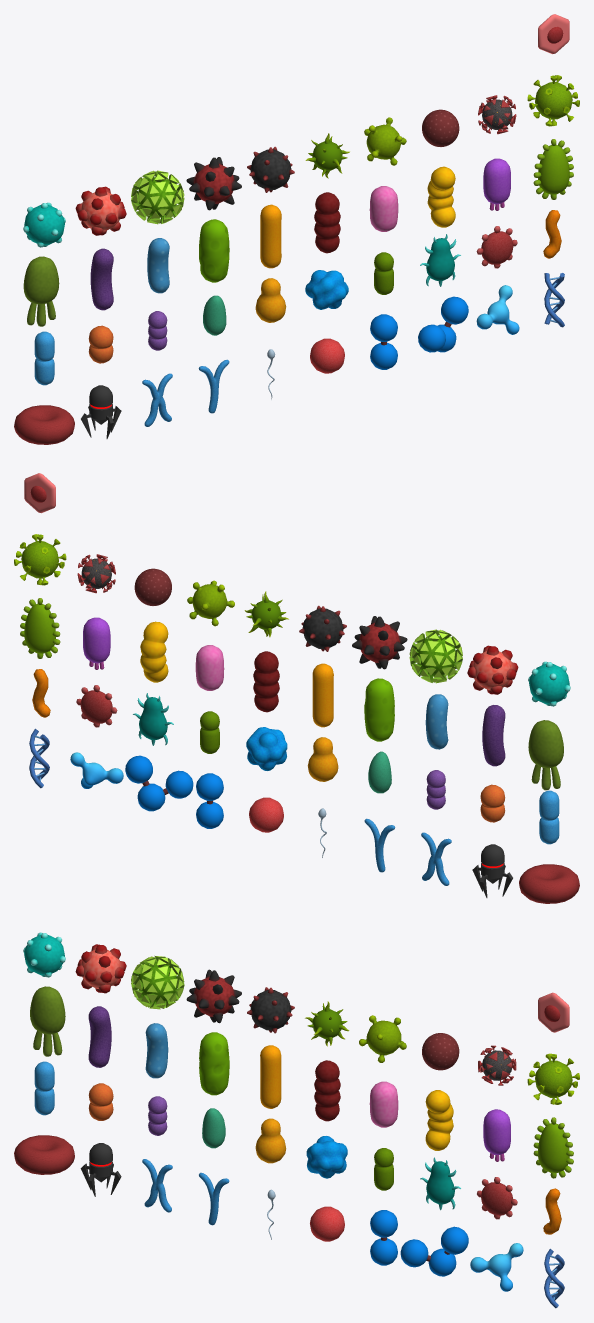
Rendered from Bullets.fbx.
The picture shows the model from 3 angles, top to bottom: view 1: azimuth 30°, elevation 25°; view 2: azimuth 150°, elevation 25°; view 3: azimuth 330°, elevation 25°; orthographic projection.
Parts seen in each view (by area): view 1: Virus_3, RedBloodCell, Bacteria_1, Virus_4, Virus_2, Bacteria_10, Bacteria_4, Molecule_3, Virus_10, Virus_5, Virus_1, Bacteria_8 (+28 smaller); view 2: Virus_3, RedBloodCell, Molecule_3, Bacteria_1, Virus_4, Virus_2, Bacteria_10, Bacteria_4, Virus_10, Virus_5, Virus_1, Bacteria_8 (+28 smaller); view 3: Virus_3, RedBloodCell, Bacteria_1, Molecule_3, Virus_4, Virus_2, Bacteria_10, Bacteria_4, Virus_10, Virus_5, Virus_1, Bacteria_8 (+28 smaller).
Part boxes in pixels (<box>): Virus_3: <box>131,170,184,224</box>; RedBloodCell: <box>14,405,74,444</box>; Bacteria_1: <box>23,256,59,326</box>; Virus_4: <box>186,157,241,210</box>; Virus_2: <box>75,186,126,235</box>; Bacteria_10: <box>533,139,573,199</box>; Bacteria_4: <box>199,219,229,282</box>; Molecule_3: <box>418,296,468,352</box>; Virus_10: <box>527,75,579,126</box>; Virus_5: <box>247,146,294,192</box>; Virus_1: <box>23,202,65,247</box>; Bacteria_8: <box>427,166,455,227</box>; Virus_3: <box>409,629,462,683</box>; RedBloodCell: <box>519,864,579,903</box>; Molecule_3: <box>125,755,193,811</box>; Bacteria_1: <box>528,720,563,790</box>; Virus_4: <box>352,616,407,669</box>; Virus_2: <box>467,645,518,694</box>; Bacteria_10: <box>20,598,60,658</box>; Bacteria_4: <box>364,678,394,741</box>; Virus_10: <box>14,534,66,585</box>; Virus_5: <box>299,605,346,651</box>; Virus_1: <box>528,661,570,706</box>; Bacteria_8: <box>140,621,168,682</box>; Virus_3: <box>131,955,184,1009</box>; RedBloodCell: <box>14,1135,74,1174</box>; Bacteria_1: <box>30,986,65,1056</box>; Molecule_3: <box>400,1226,468,1276</box>; Virus_4: <box>186,969,241,1023</box>; Virus_2: <box>75,944,126,993</box>; Bacteria_10: <box>533,1117,573,1178</box>; Bacteria_4: <box>199,1032,229,1095</box>; Virus_10: <box>527,1053,579,1104</box>; Virus_5: <box>247,987,294,1033</box>; Virus_1: <box>23,932,65,977</box>; Bacteria_8: <box>425,1090,453,1150</box>.
Size of the model in its own units: 790 by 429 by 76.27.
41 materials, 41 textured.
